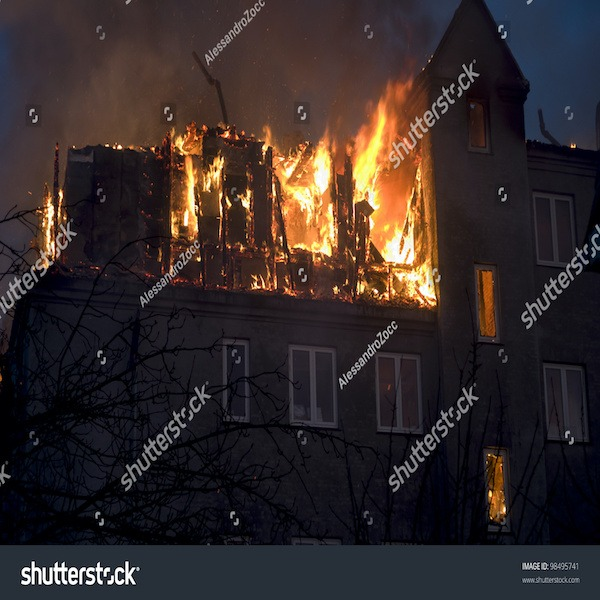fire: (345, 79, 432, 266), (277, 141, 337, 255), (170, 133, 209, 239), (487, 454, 507, 519), (240, 194, 257, 248)
